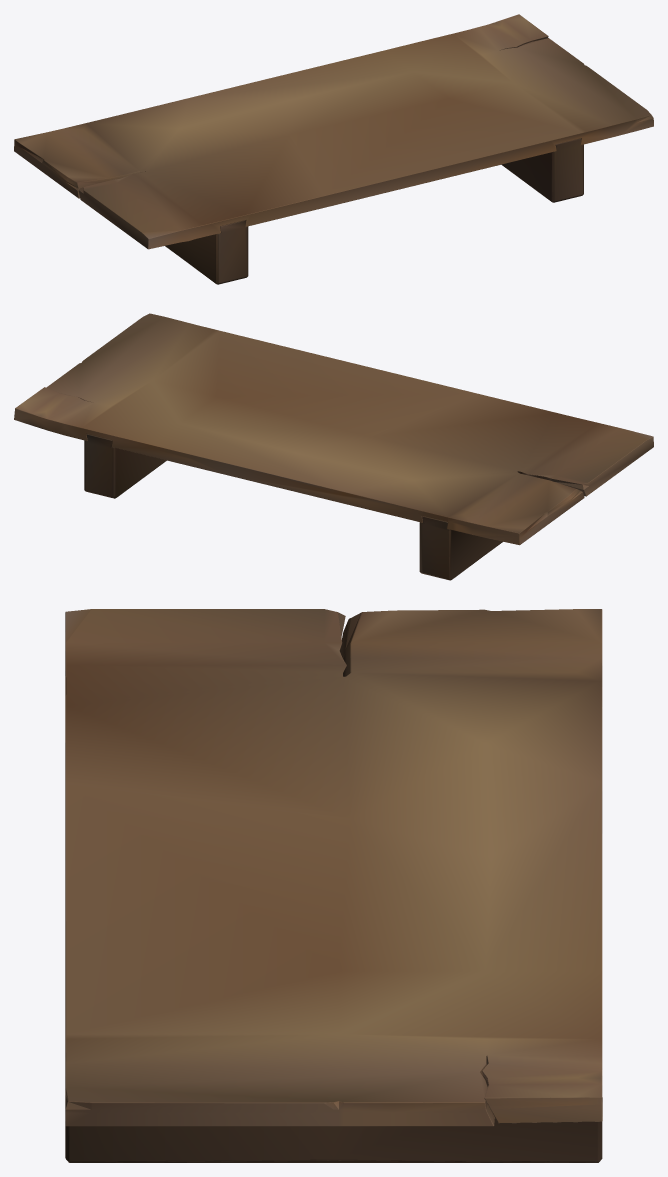
The model's file is unhyun_chopping_board_1672445e.glb.
3 renders of one model, top to bottom at view 1: azimuth 30°, elevation 25°; view 2: azimuth 150°, elevation 25°; view 3: azimuth 270°, elevation 25°, orthographic. The views are drawn at different scales.
Parts seen in each view (by area): view 1: SM_ChoppingBoard_M_ChoppingBoard_0; view 2: SM_ChoppingBoard_M_ChoppingBoard_0; view 3: SM_ChoppingBoard_M_ChoppingBoard_0.
Boxes of the visible parts, box(x1,y1,x2,y2) form: SM_ChoppingBoard_M_ChoppingBoard_0: box(14, 14, 653, 284); SM_ChoppingBoard_M_ChoppingBoard_0: box(14, 313, 653, 580); SM_ChoppingBoard_M_ChoppingBoard_0: box(65, 609, 602, 1162).
Bounding box in the file's own units: 1.5 × 0.1904 × 0.6903.
